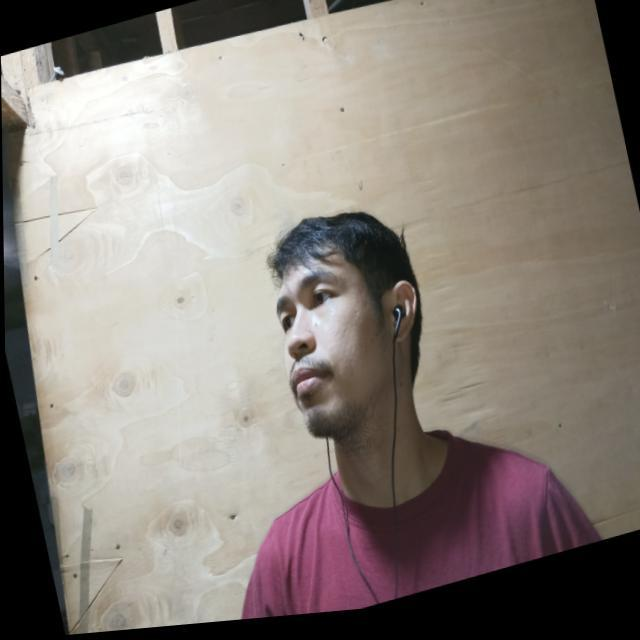Nonhelmet: (265, 209, 424, 449)
